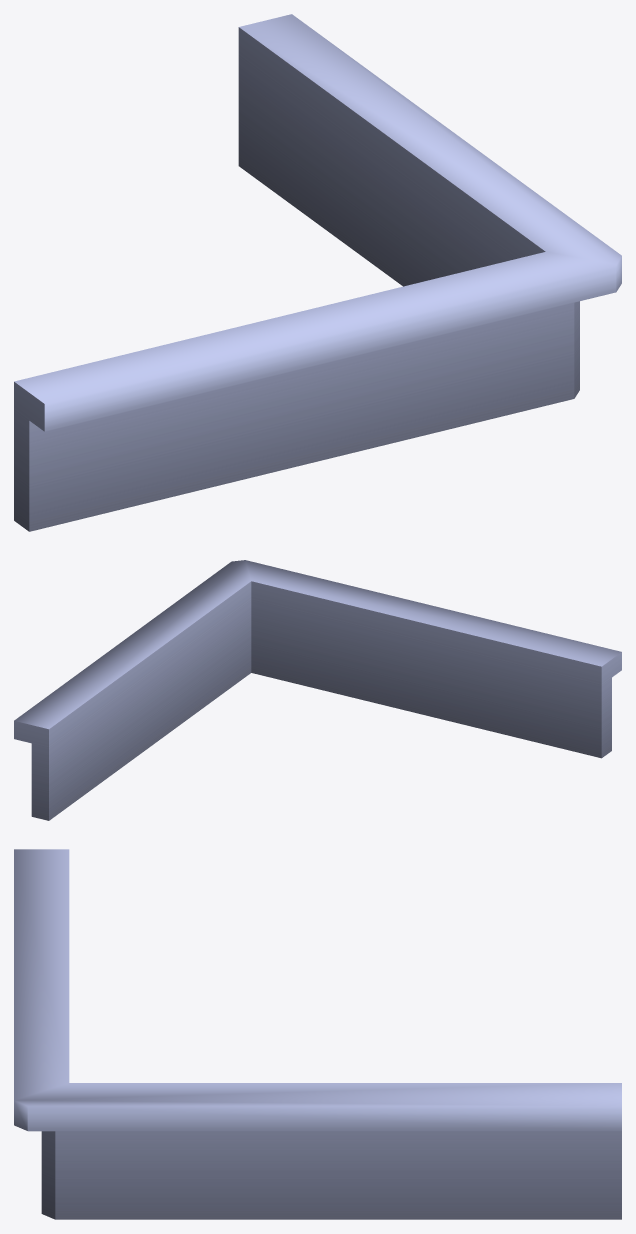
The model's file is Border High Corner.glb.
3 views of the same model, one above another, from view 1: azimuth 30°, elevation 25°; view 2: azimuth 150°, elevation 25°; view 3: azimuth 270°, elevation 25° (orthographic). The views are drawn at different scales.
Parts seen in each view (by area): view 1: border-high-corner; view 2: border-high-corner; view 3: border-high-corner.
Part boxes in pixels (left/top/right/bottom): border-high-corner: left=14, top=14, right=621, bottom=531; border-high-corner: left=14, top=560, right=621, bottom=820; border-high-corner: left=14, top=849, right=621, bottom=1219.
Size of the model in its own units: 2.2 by 0.5 by 2.2.
Materials: 1 (1 with a texture image).
